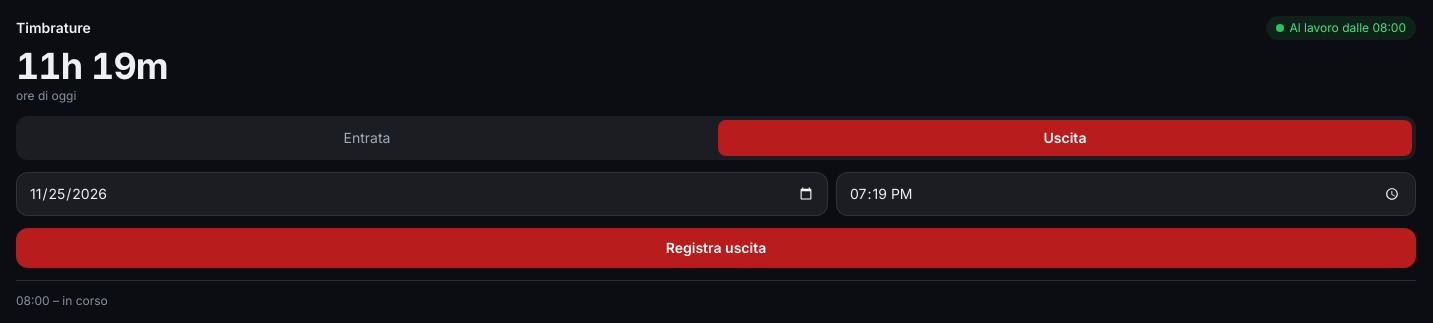
Scenario: widget Timbrature › al lavoro: l'interruttore passa da solo su Uscita; si può tornare a mano su Entrata
Expected: the text "Al lavoro dalle 08:00" is shown, [1266,16,1416,40]
Expected: the button "Registra uscita" is shown, [16,228,1416,268]
Click the radio button labelled "Entrata".
click(367, 138)  # box [20,120,714,156]
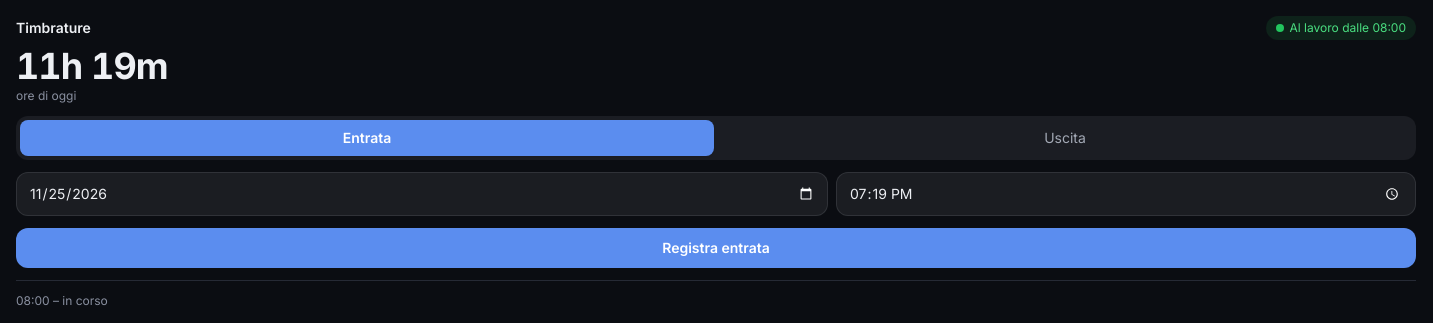
Now the button "Registra entrata" is shown, box [16,228,1416,268]
